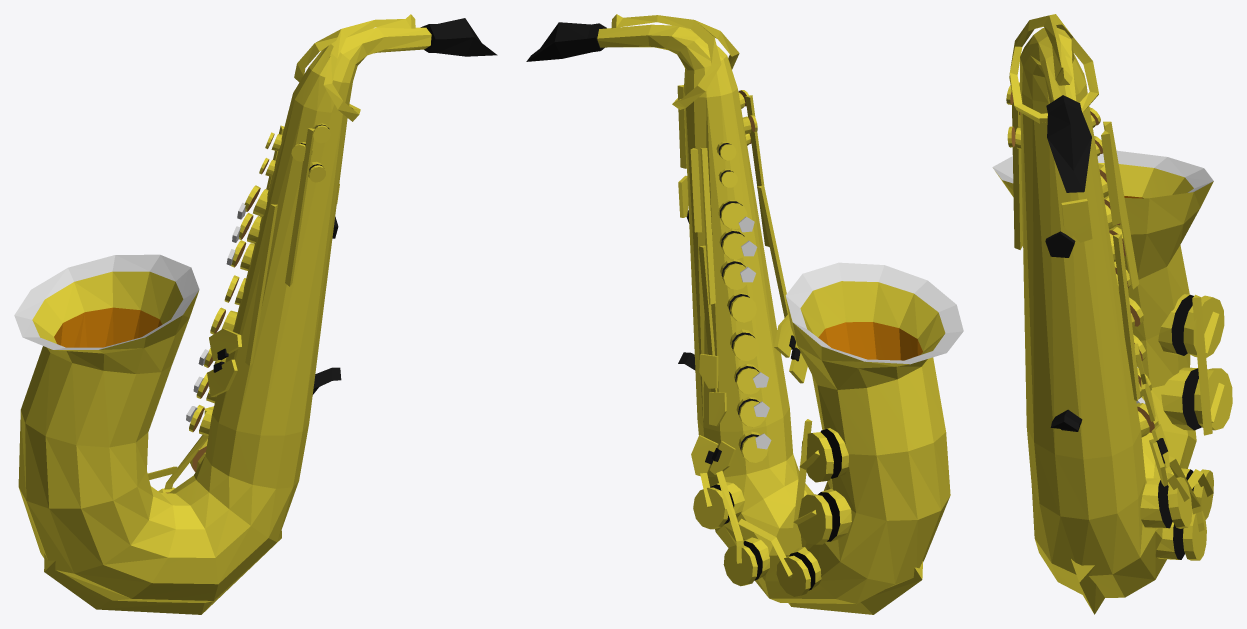
The model's file is saxophone.glb.
3 views of the same model, side by side, from view 1: azimuth 30°, elevation 25°; view 2: azimuth 150°, elevation 25°; view 3: azimuth 270°, elevation 25° (orthographic). The views are drawn at different scales.
Visible parts, largest first — view 1: node_MeshObject1480428544-PolyPaper12; view 2: node_MeshObject1480428544-PolyPaper12; view 3: node_MeshObject1480428544-PolyPaper12.
Boxes of the visible parts, <box> form: node_MeshObject1480428544-PolyPaper12: <box>14,14,497,614</box>; node_MeshObject1480428544-PolyPaper12: <box>526,14,963,614</box>; node_MeshObject1480428544-PolyPaper12: <box>992,14,1232,614</box>.
Bounding box in the file's own units: 0.5925 × 0.7099 × 0.2313.
